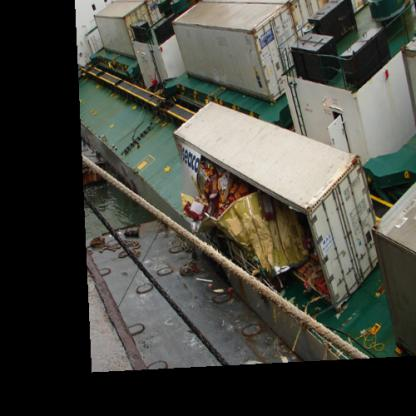Damage: (174, 139, 344, 296)
